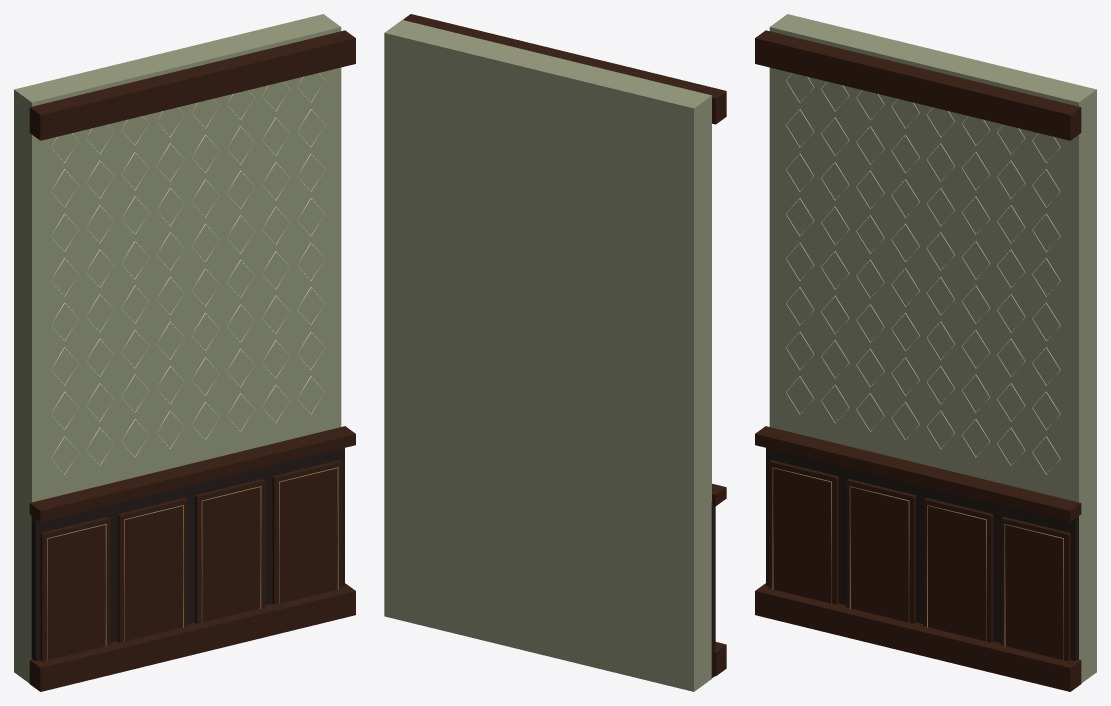
The model's file is Wall_Panel_2m.fbx.
3 renders of one model, left to right at view 1: azimuth 30°, elevation 25°; view 2: azimuth 150°, elevation 25°; view 3: azimuth 330°, elevation 25°, orthographic.
Parts seen in each view (by area): view 1: Plaster wall.002, Wall trim.008, Wall trim.006, Raised wooden panel.027, Raised wooden panel.030, Raised wooden panel.028, Raised wooden panel.029, Wainscot backing.002, Wall trim.007, Panel moulding.123; view 2: Plaster wall.002, Wall trim.008, Wainscot backing.002; view 3: Plaster wall.002, Wall trim.008, Wall trim.006, Raised wooden panel.030, Raised wooden panel.027, Raised wooden panel.029, Raised wooden panel.028, Wainscot backing.002, Wall trim.007, Panel moulding.122.
Part boxes in pixels (box(x1,y1,x2,y2)): Plaster wall.002: box(14, 14, 341, 683); Wall trim.008: box(29, 30, 355, 140); Wall trim.006: box(29, 583, 355, 691); Raised wooden panel.027: box(40, 516, 110, 661); Raised wooden panel.030: box(272, 460, 342, 604); Raised wooden panel.028: box(117, 498, 187, 642); Raised wooden panel.029: box(195, 479, 264, 623); Wainscot backing.002: box(31, 448, 344, 661); Wall trim.007: box(29, 426, 355, 521); Panel moulding.123: box(201, 486, 261, 622); Plaster wall.002: box(384, 20, 711, 691); Wall trim.008: box(403, 14, 726, 124); Wainscot backing.002: box(711, 500, 715, 677); Plaster wall.002: box(769, 14, 1096, 683); Wall trim.008: box(755, 30, 1081, 140); Wall trim.006: box(755, 583, 1081, 691); Raised wooden panel.030: box(1000, 516, 1070, 661); Raised wooden panel.027: box(768, 460, 838, 604); Raised wooden panel.029: box(923, 498, 993, 642); Raised wooden panel.028: box(846, 479, 915, 623); Wainscot backing.002: box(766, 448, 1078, 661); Wall trim.007: box(755, 426, 1081, 521); Panel moulding.122: box(849, 486, 909, 622).
Size of the model in its own units: 2.04 by 3.6 by 0.33.
